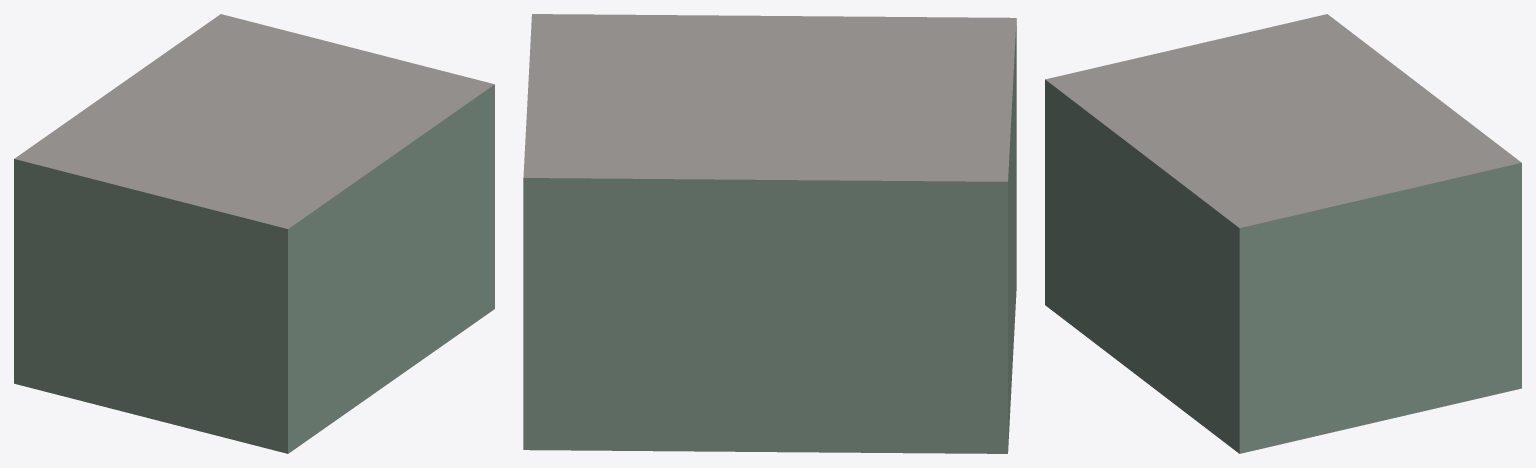
The model's file is nyc-1034200-0.glb.
3 renders of one model, left to right at view 1: azimuth 30°, elevation 25°; view 2: azimuth 150°, elevation 25°; view 3: azimuth 270°, elevation 25°, orthographic. The views are drawn at different scales.
Parts seen in each view (by area): view 1: nyc-1034200-0; view 2: nyc-1034200-0; view 3: nyc-1034200-0.
Boxes of the visible parts, x1=… form: nyc-1034200-0: x1=14, y1=14, x2=494, y2=453; nyc-1034200-0: x1=523, y1=14, x2=1016, y2=453; nyc-1034200-0: x1=1045, y1=14, x2=1521, y2=453.
Bounding box in the file's own units: 47.6 × 23.4 × 44.77.
